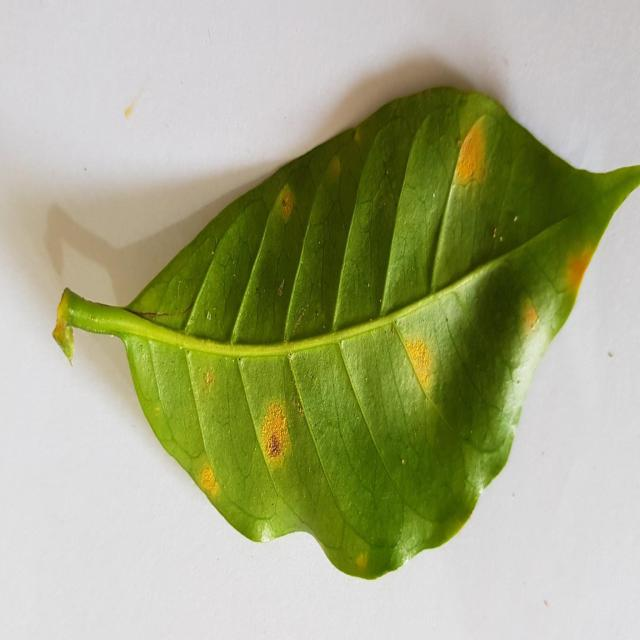rust: (451, 116, 501, 199), (564, 239, 599, 302), (402, 335, 436, 399), (260, 401, 291, 471), (519, 294, 547, 364), (282, 184, 303, 264), (193, 463, 219, 506), (203, 368, 214, 392)
